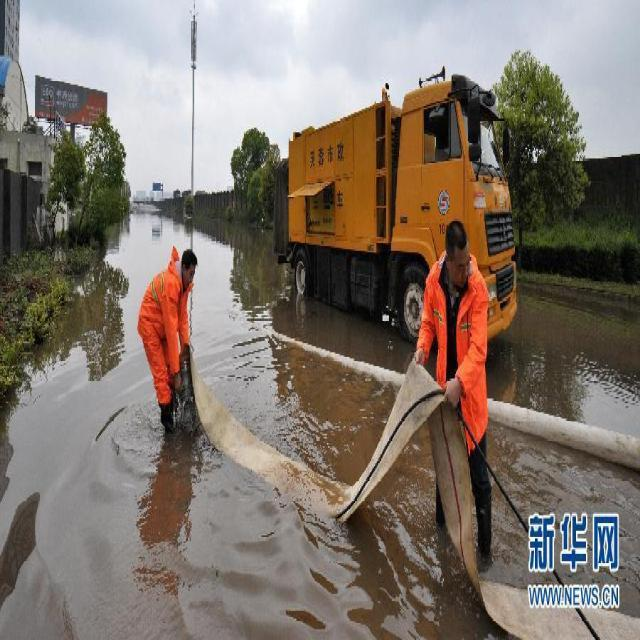rescuer: (411, 223, 494, 425), (140, 236, 212, 448)
